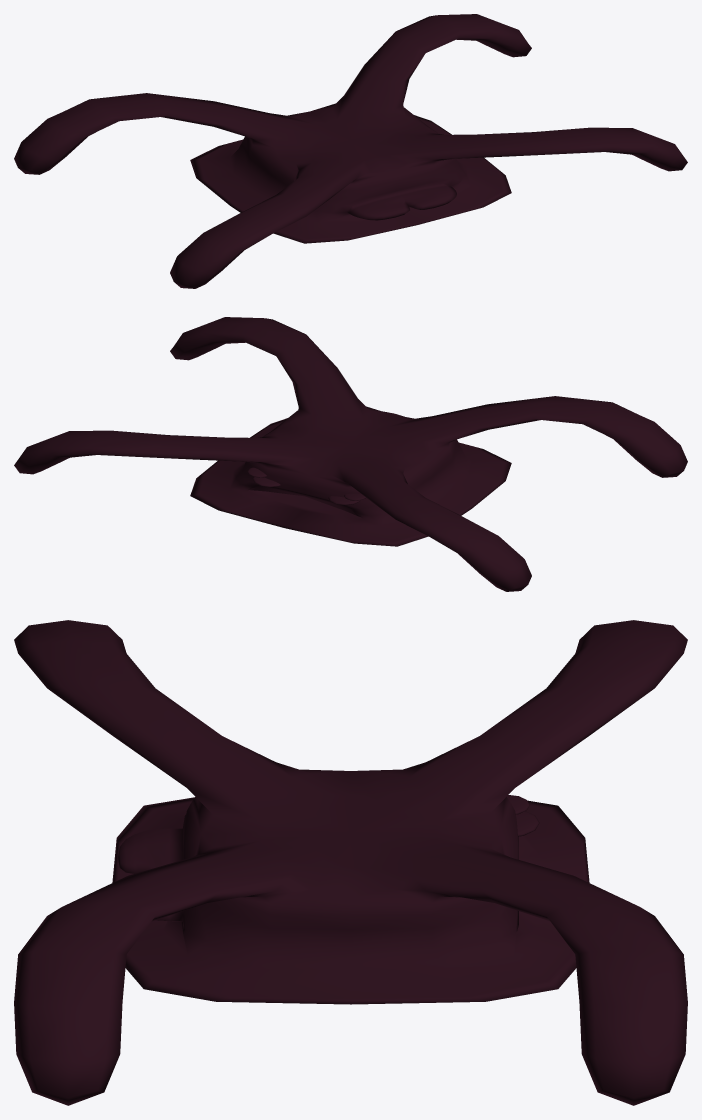
File: mimic_dead.fbx
The picture shows the model from 3 angles, top to bottom: view 1: azimuth 30°, elevation 25°; view 2: azimuth 150°, elevation 25°; view 3: azimuth 270°, elevation 25°; orthographic projection. The views are drawn at different scales.
Visible parts, largest first — view 1: mimic_dead; view 2: mimic_dead; view 3: mimic_dead.
Part boxes in pixels (x1=…): mimic_dead: x1=14, y1=14, x2=687, y2=288; mimic_dead: x1=14, y1=317, x2=687, y2=591; mimic_dead: x1=14, y1=620, x2=687, y2=1105.
Bounding box in the file's own units: 3.18 × 2 × 0.3421.
